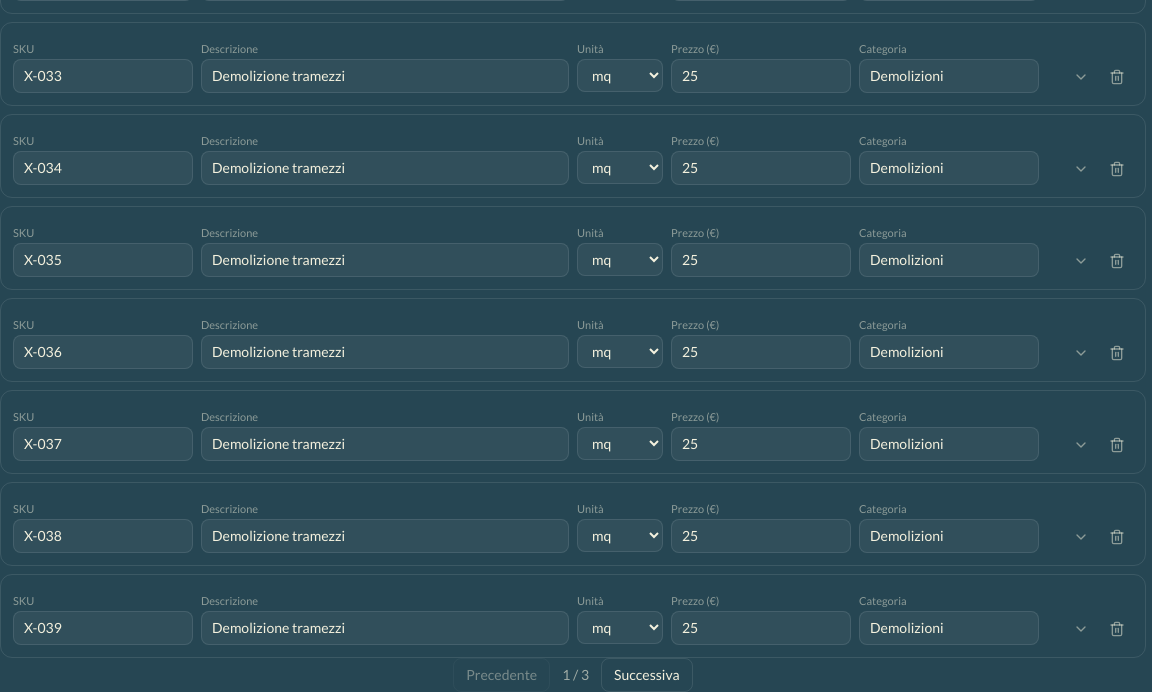
Test: PriceBookEditor › paginates long lists
The image size is (1152, 692).
(page scrolled)
Click the button "Successiva" at x=647, y=675, box x1=601 y1=658 x2=693 y2=691
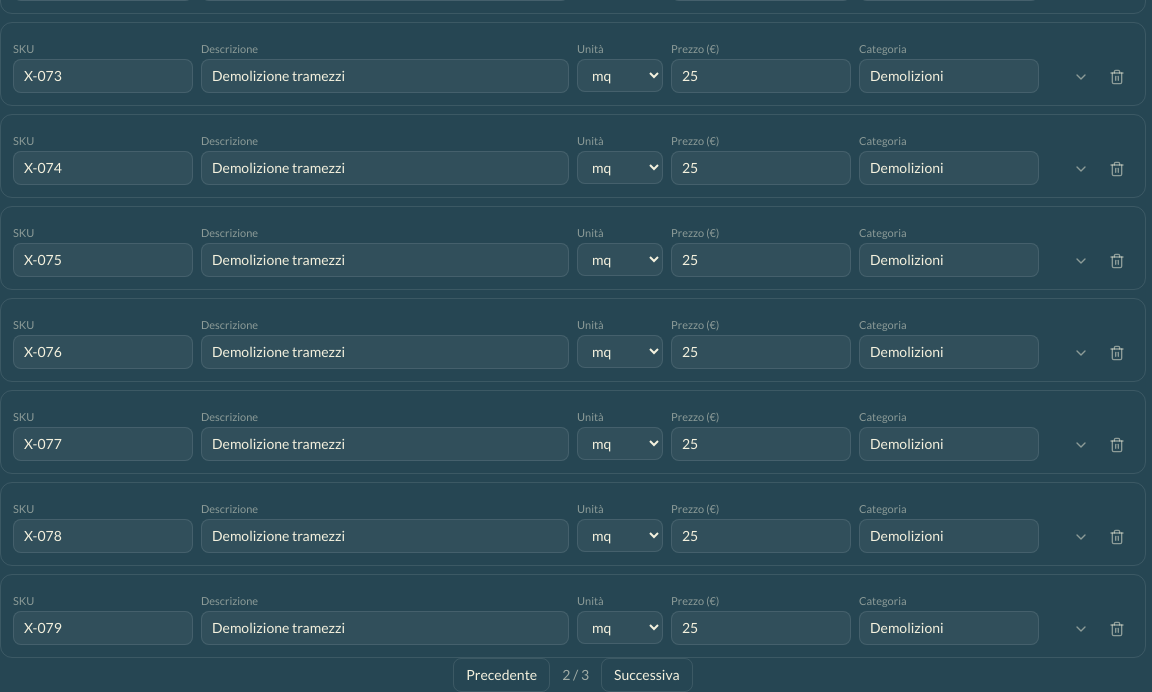
Click the button "Successiva" at x=647, y=675, box x1=601 y1=658 x2=693 y2=691
(page scrolled)
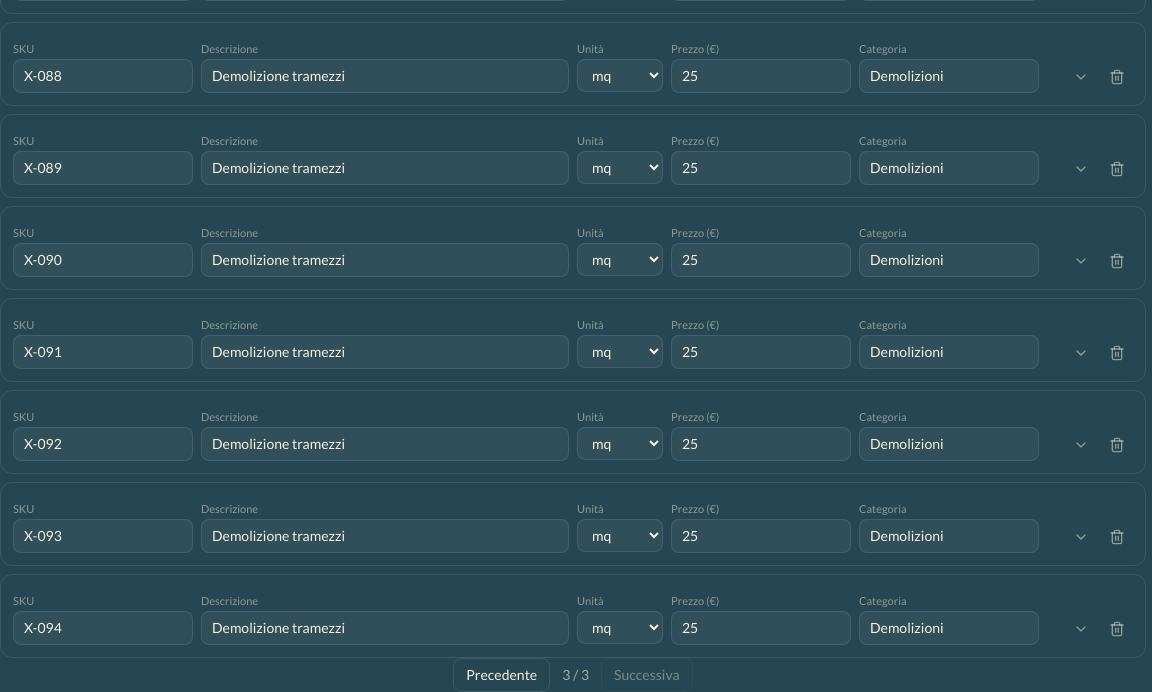
Check: the button "Successiva" is disabled, box x1=601 y1=658 x2=693 y2=691
